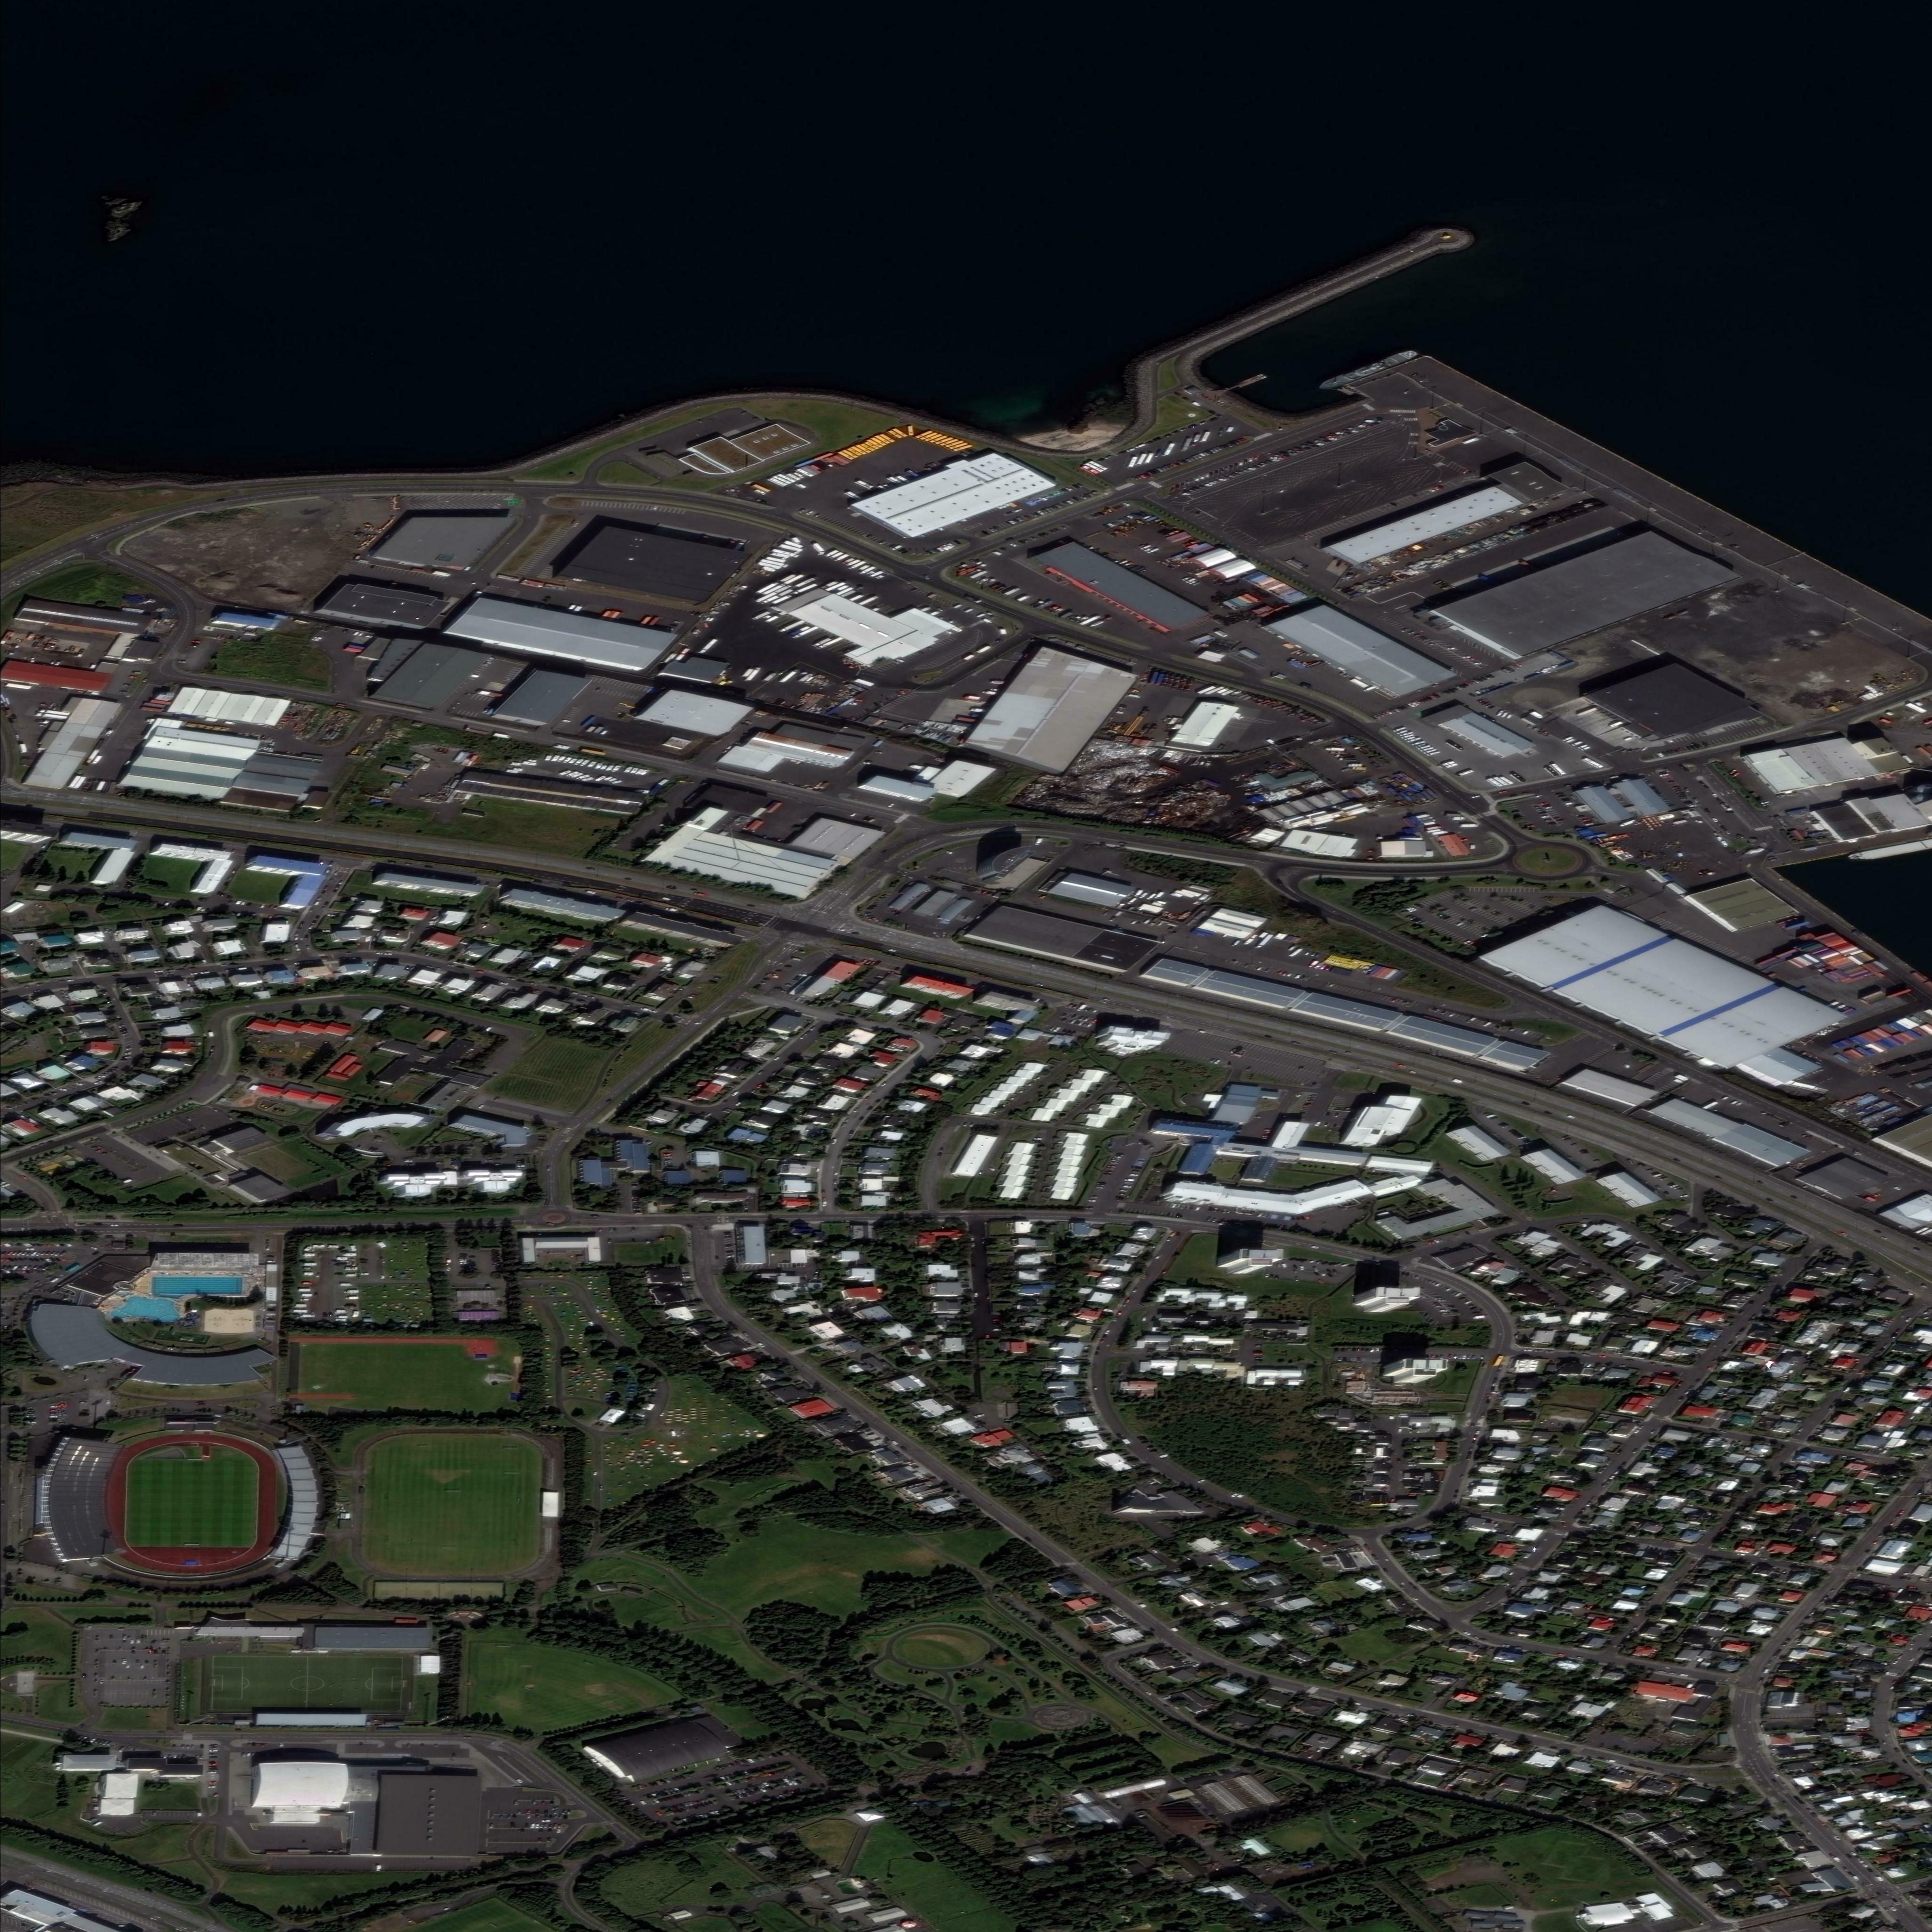harbor: (1186, 221, 1468, 366), (1225, 373, 1267, 393)
ship: (1318, 347, 1421, 395)
